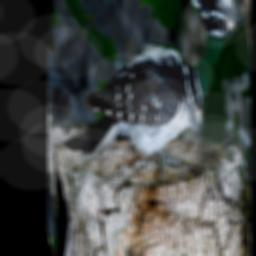Woodpecker: (61, 0, 219, 256)
